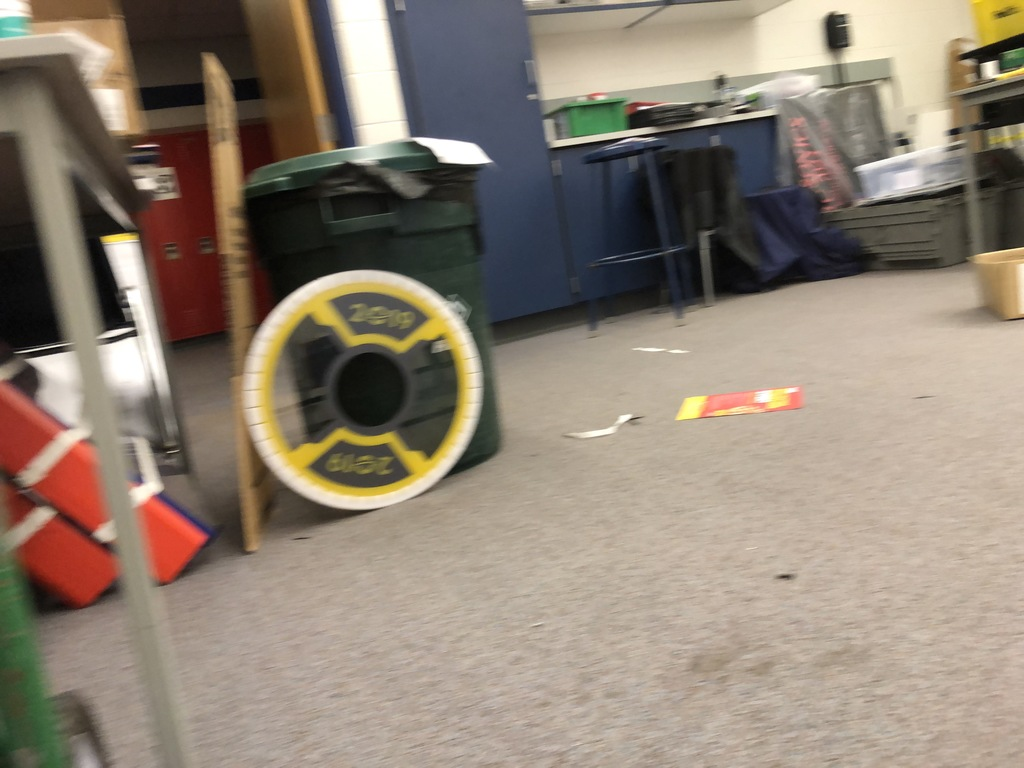hatch_panel: (226, 256, 495, 519)
